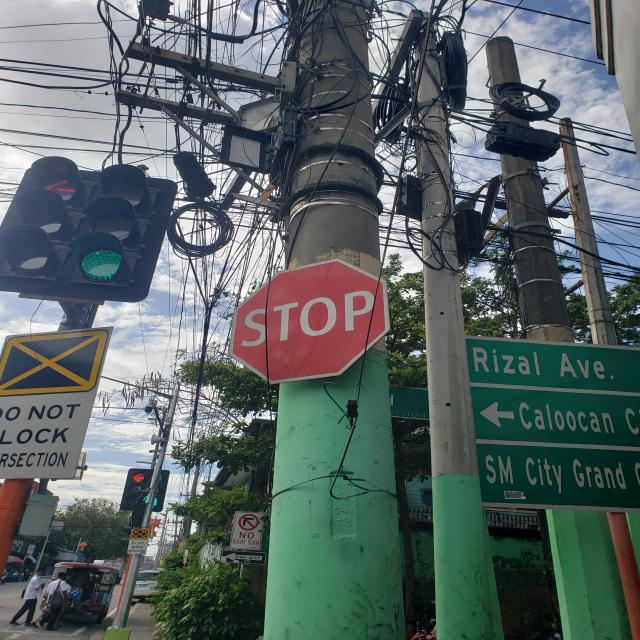stop-sign: (228, 258, 391, 385)
